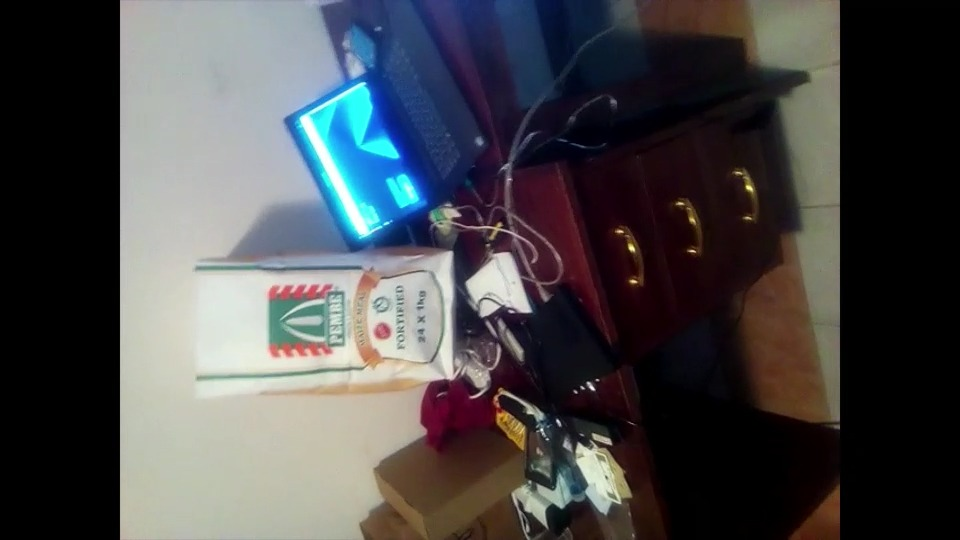maize_flour_green_label: (178, 251, 451, 408)
